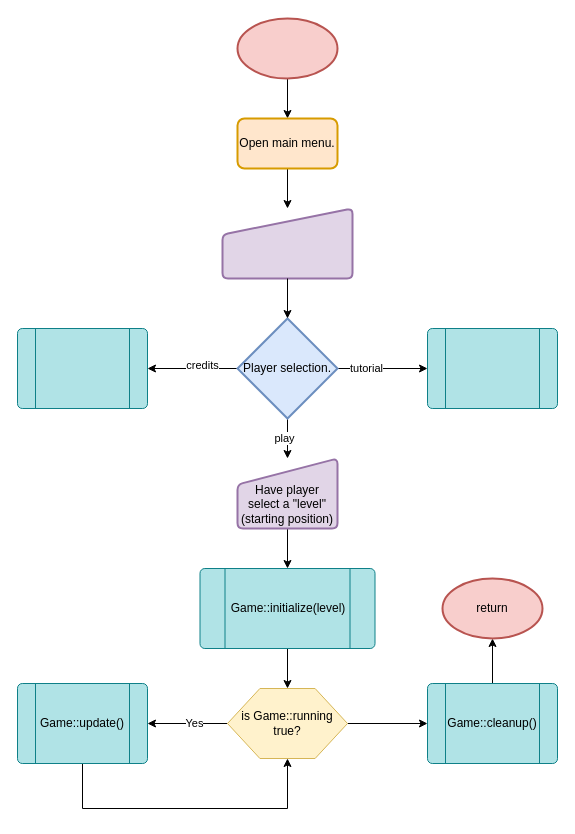
Image size: 575x834. Some labels were removed from this diagram. Here are the shapes that lost their labels. From the top down, the centre of each, then its label:
[287,48]: begin main()
[287,243]: Have player select between "play", "credits", "tutorial."
[82,368]: credits()
[492,368]: tutorial()
